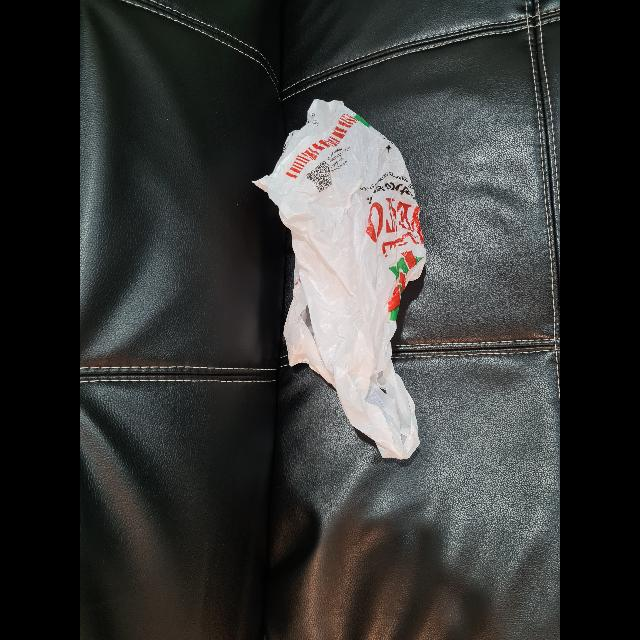plastic_bag: (251, 100, 453, 470)
